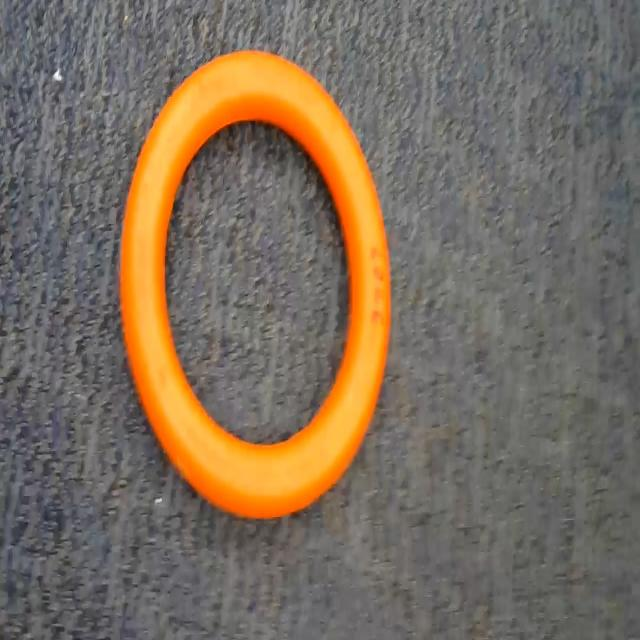note: (118, 46, 397, 534)
